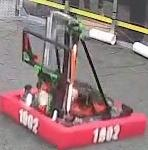red_number: (16, 106, 41, 136), (88, 123, 122, 145)
